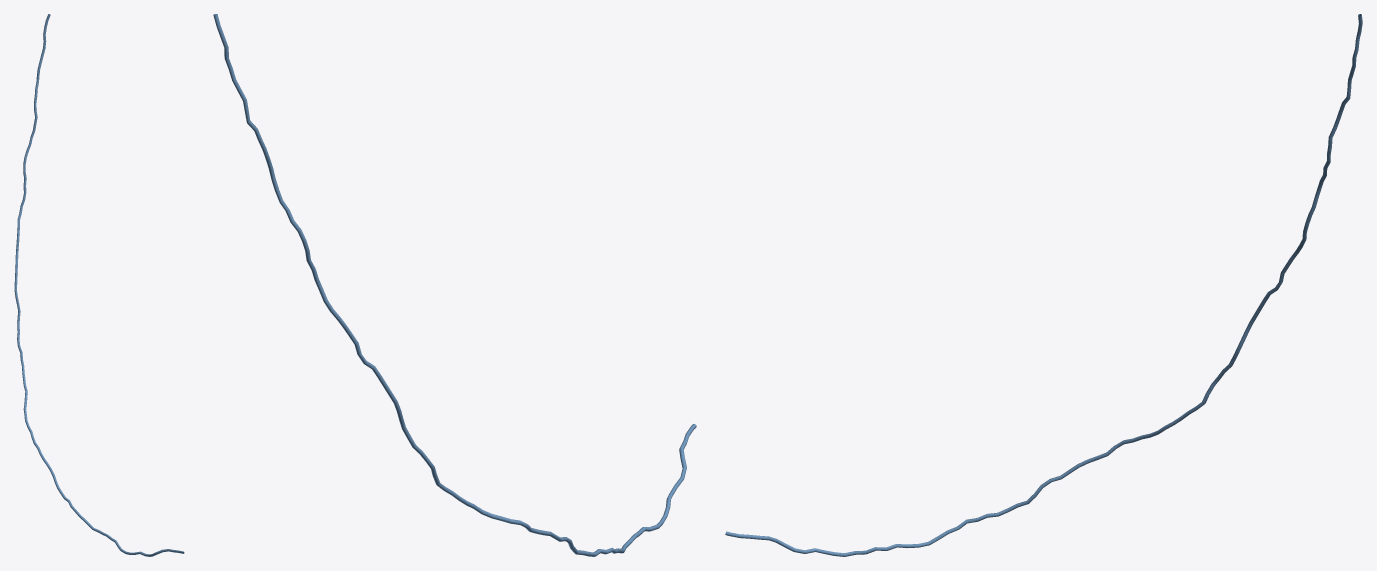
The model's file is sweep203.fbx.
3 views of the same model, side by side, from view 1: azimuth 30°, elevation 25°; view 2: azimuth 150°, elevation 25°; view 3: azimuth 270°, elevation 25° (orthographic). The views are drawn at different scales.
Visible parts, largest first — view 1: sweep203; view 2: sweep203; view 3: sweep203.
Part boxes in pixels (x1,y1,x2,y2): sweep203: (14, 14, 184, 556); sweep203: (213, 14, 696, 556); sweep203: (725, 14, 1362, 556).
Size of the model in its own units: 0.921 by 3.32 by 3.14.
